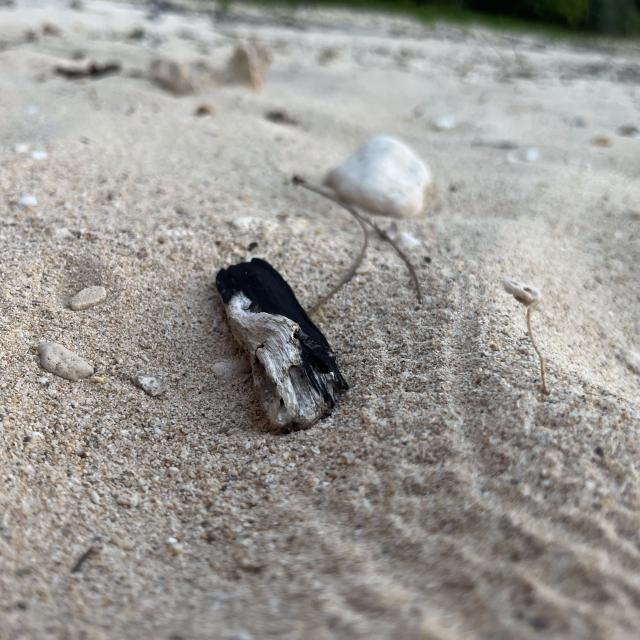charcoal: (203, 242, 421, 478)
